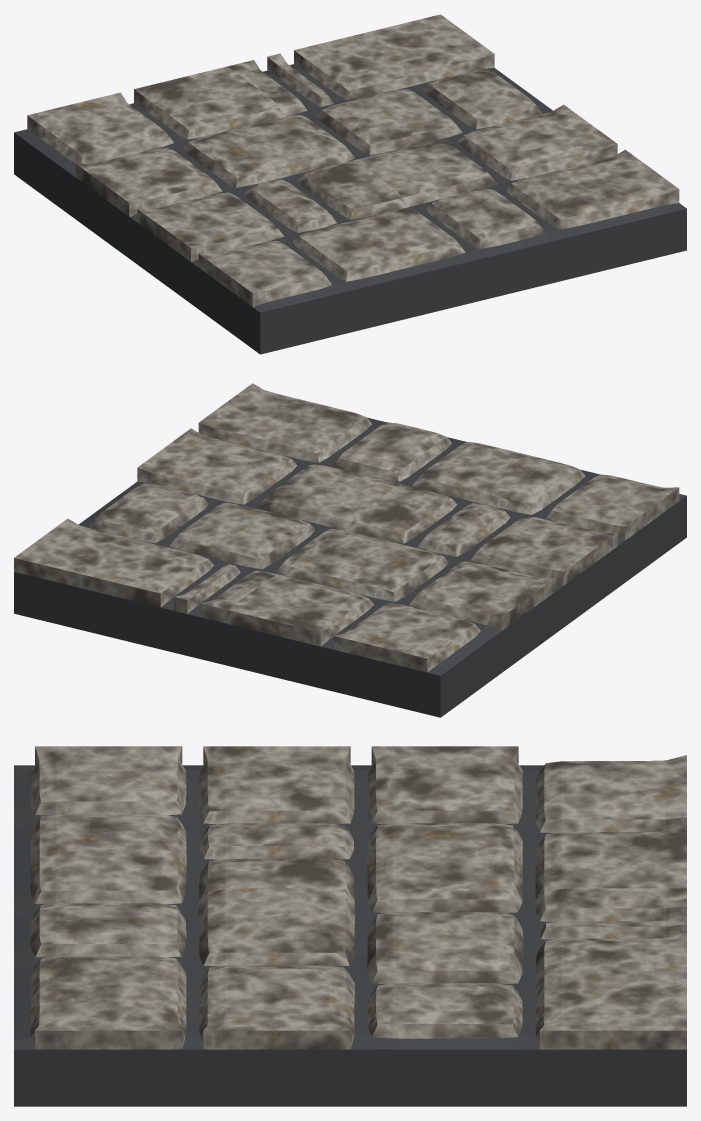
The model's file is floor_out_flagstone.glb.
3 views of the same model, one above another, from view 1: azimuth 30°, elevation 25°; view 2: azimuth 150°, elevation 25°; view 3: azimuth 270°, elevation 25° (orthographic). The views are drawn at different scales.
Visible parts, largest first — view 1: town_floor_out_flagstone; view 2: town_floor_out_flagstone; view 3: town_floor_out_flagstone.
Part boxes in pixels (x1=…): town_floor_out_flagstone: x1=14, y1=14, x2=686, y2=354; town_floor_out_flagstone: x1=14, y1=383, x2=686, y2=717; town_floor_out_flagstone: x1=14, y1=746, x2=686, y2=1106.
Size of the model in its own units: 1 by 0.125 by 1.
Materials: 2 (1 with a texture image).
